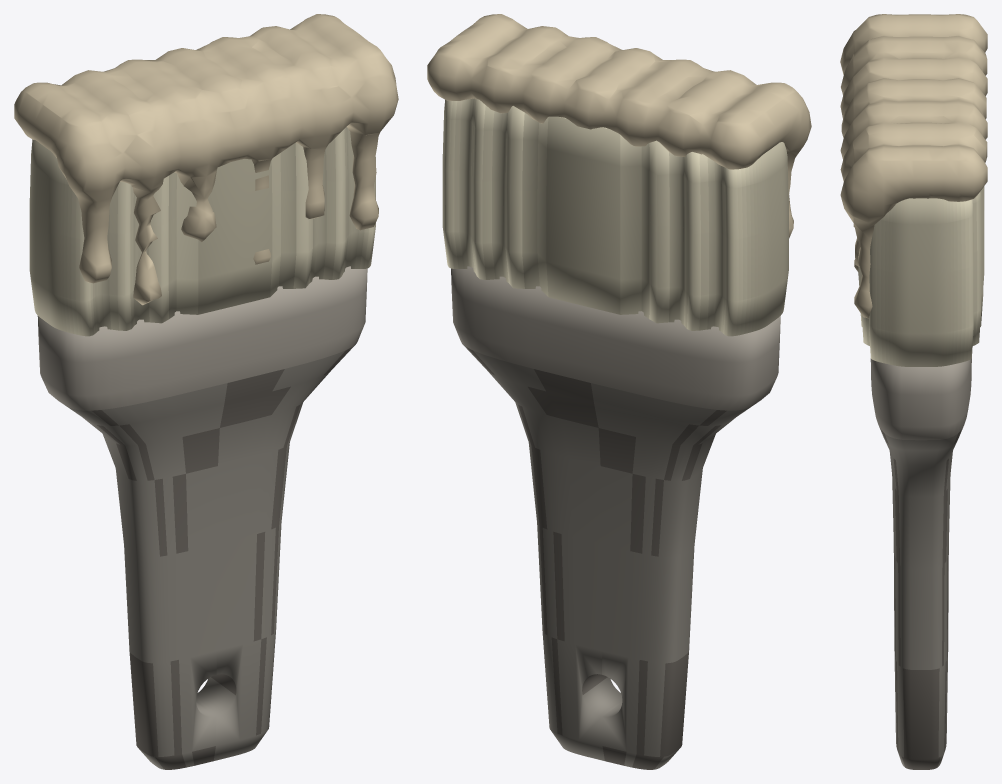
The model's file is Paintbrush_Golem.glb.
3 views of the same model, side by side, from view 1: azimuth 30°, elevation 25°; view 2: azimuth 150°, elevation 25°; view 3: azimuth 270°, elevation 25° (orthographic). The views are drawn at different scales.
Parts seen in each view (by area): view 1: Body, Paint, Bristles; view 2: Body, Bristles, Paint; view 3: Paint, Body, Bristles.
Part boxes in pixels (x1,y1,x2,y2): Body: [37, 266, 367, 769]; Paint: [14, 14, 398, 305]; Bristles: [29, 127, 375, 336]; Body: [451, 266, 780, 769]; Bristles: [442, 98, 788, 336]; Paint: [427, 14, 811, 238]; Paint: [840, 14, 987, 318]; Body: [870, 358, 971, 769]; Bristles: [858, 186, 984, 366].
Size of the model in its own units: 1.23 by 2.44 by 0.4919.
